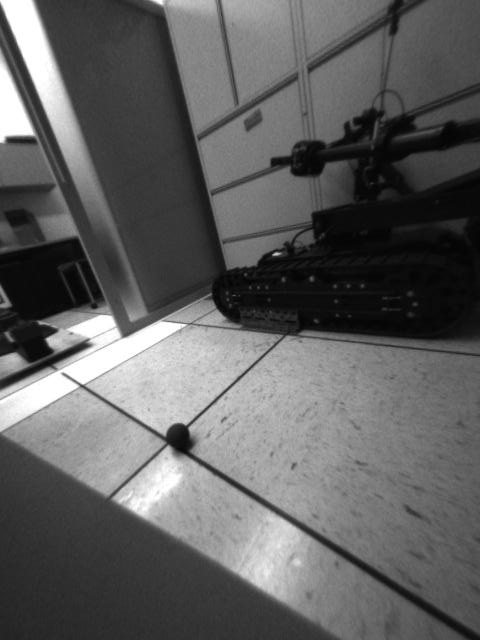dogtoy: (154, 411, 201, 458)
